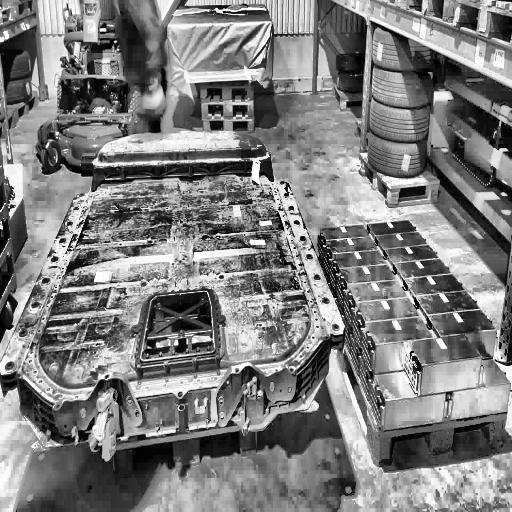b_casing: (1, 132, 349, 413)
battery_module: (401, 332, 485, 395), (361, 318, 433, 374), (351, 297, 426, 328), (428, 307, 497, 337), (415, 289, 481, 318), (338, 263, 400, 289), (346, 281, 410, 305), (403, 272, 467, 296), (394, 257, 454, 278), (324, 235, 380, 257), (330, 251, 391, 271), (382, 243, 441, 262), (319, 225, 372, 244), (374, 231, 429, 249), (366, 218, 419, 235)
